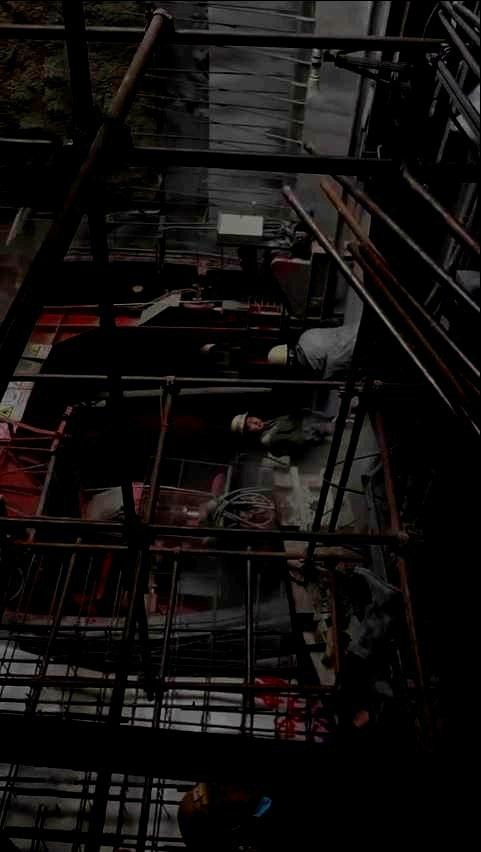helmet: (230, 412, 265, 436), (268, 344, 297, 366)
